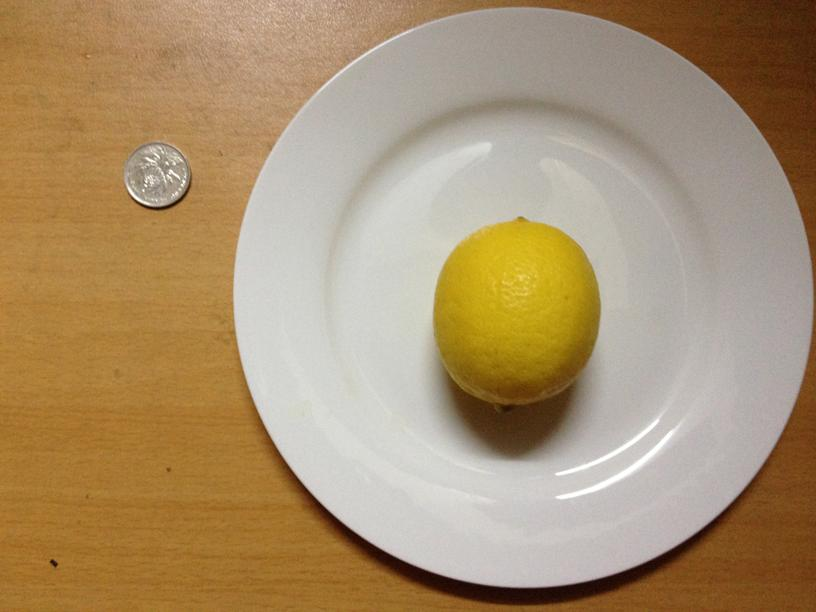coin: (123, 139, 190, 212)
lemon: (429, 219, 597, 407)
